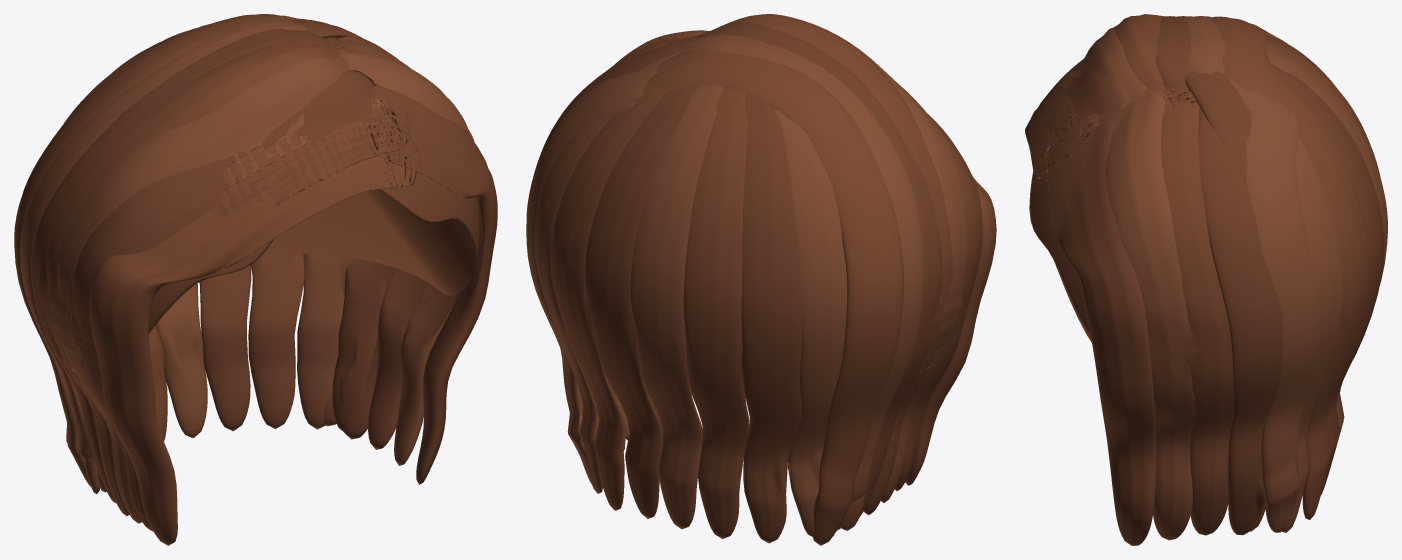
The model's file is Feminine-side-sweep-open-pashmina250-hair.glb.
The picture shows the model from 3 angles, left to right: view 1: azimuth 30°, elevation 25°; view 2: azimuth 150°, elevation 25°; view 3: azimuth 270°, elevation 25°; orthographic projection. The views are drawn at different scales.
Parts seen in each view (by area): view 1: 226 hair / Hair / sculpted 0.002, 226 hair / Hair / sculpted 1.004, 226 hair / Hair / sculpted 2.002, 226 hair / Hair / sculpted 1.003; view 2: 226 hair / Hair / sculpted 0.002, 226 hair / Hair / sculpted 2.002, 226 hair / Hair / sculpted 1.004; view 3: 226 hair / Hair / sculpted 1.004, 226 hair / Hair / sculpted 2.002, 226 hair / Hair / sculpted 0.002, 226 hair / Hair / sculpted 1.003.
Part boxes in pixels (x1=…): 226 hair / Hair / sculpted 0.002: x1=14, y1=14, x2=428, y2=545; 226 hair / Hair / sculpted 1.004: x1=31, y1=19, x2=497, y2=531; 226 hair / Hair / sculpted 2.002: x1=21, y1=18, x2=479, y2=523; 226 hair / Hair / sculpted 1.003: x1=71, y1=172, x2=479, y2=371; 226 hair / Hair / sculpted 0.002: x1=551, y1=14, x2=996, y2=545; 226 hair / Hair / sculpted 2.002: x1=526, y1=14, x2=967, y2=536; 226 hair / Hair / sculpted 1.004: x1=526, y1=22, x2=982, y2=543; 226 hair / Hair / sculpted 1.004: x1=1038, y1=16, x2=1384, y2=545; 226 hair / Hair / sculpted 2.002: x1=1062, y1=16, x2=1387, y2=540; 226 hair / Hair / sculpted 0.002: x1=1025, y1=14, x2=1380, y2=535; 226 hair / Hair / sculpted 1.003: x1=1029, y1=171, x2=1091, y2=342.
Size of the model in its own units: 0.9998 by 1.08 by 0.7947.
